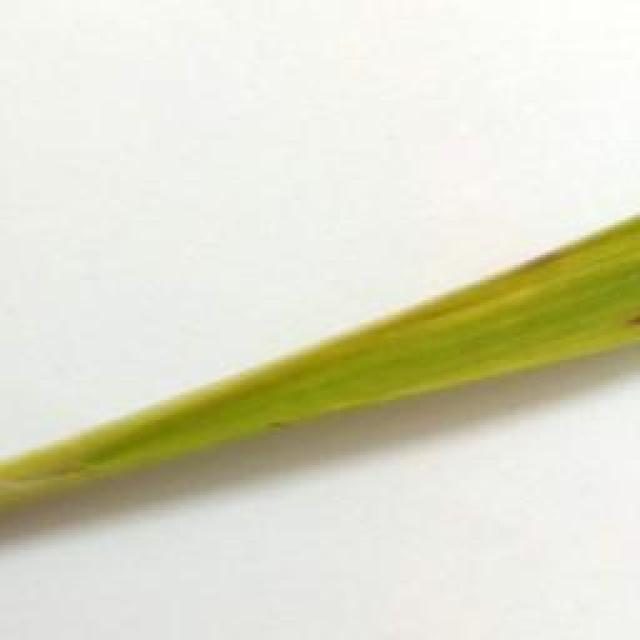Brown_Spot: (624, 303, 640, 327)
